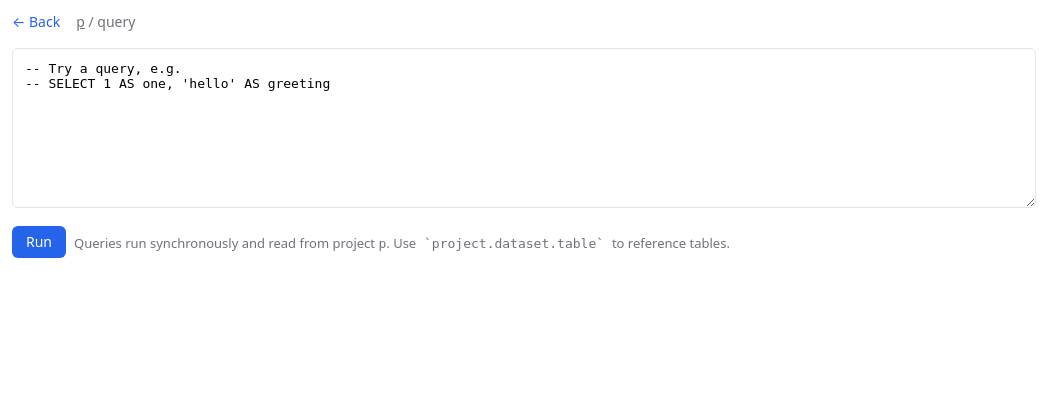
Test case: QueryConsole › runs a SELECT and renders rows
Replace the text in the text box with "SELECT 1" at (524,128), box 12,48 -> 1036,208
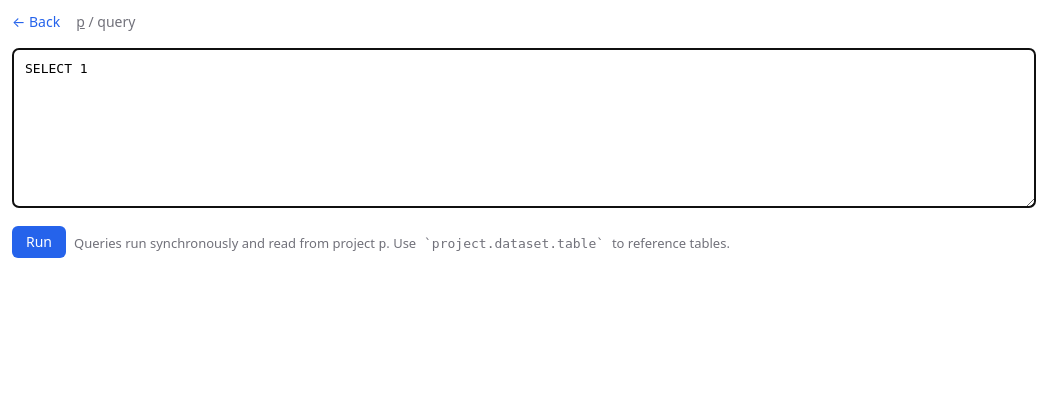
Click the button "Run" at (39,242), box 12,226 -> 66,258
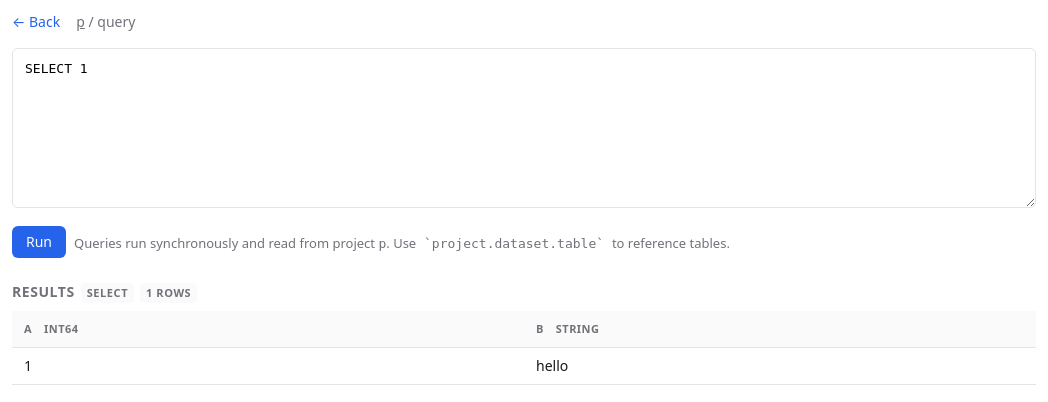
Expected: the text "hello" is shown, 524,347 -> 1036,385
